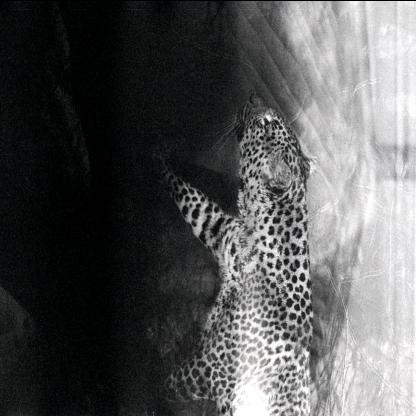leopard: (230, 91, 310, 215)
